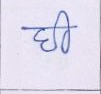i_matra: (57, 8, 72, 53)
